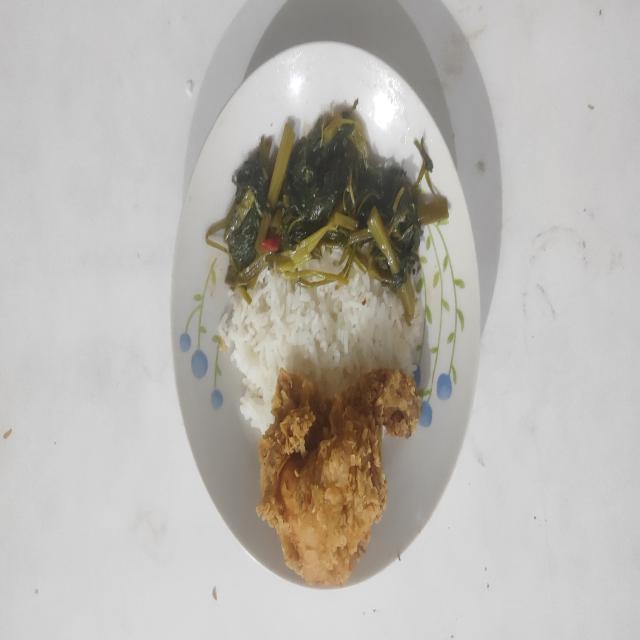nasi_putih: (218, 266, 424, 432)
tumis_kangkung: (206, 100, 449, 323)
